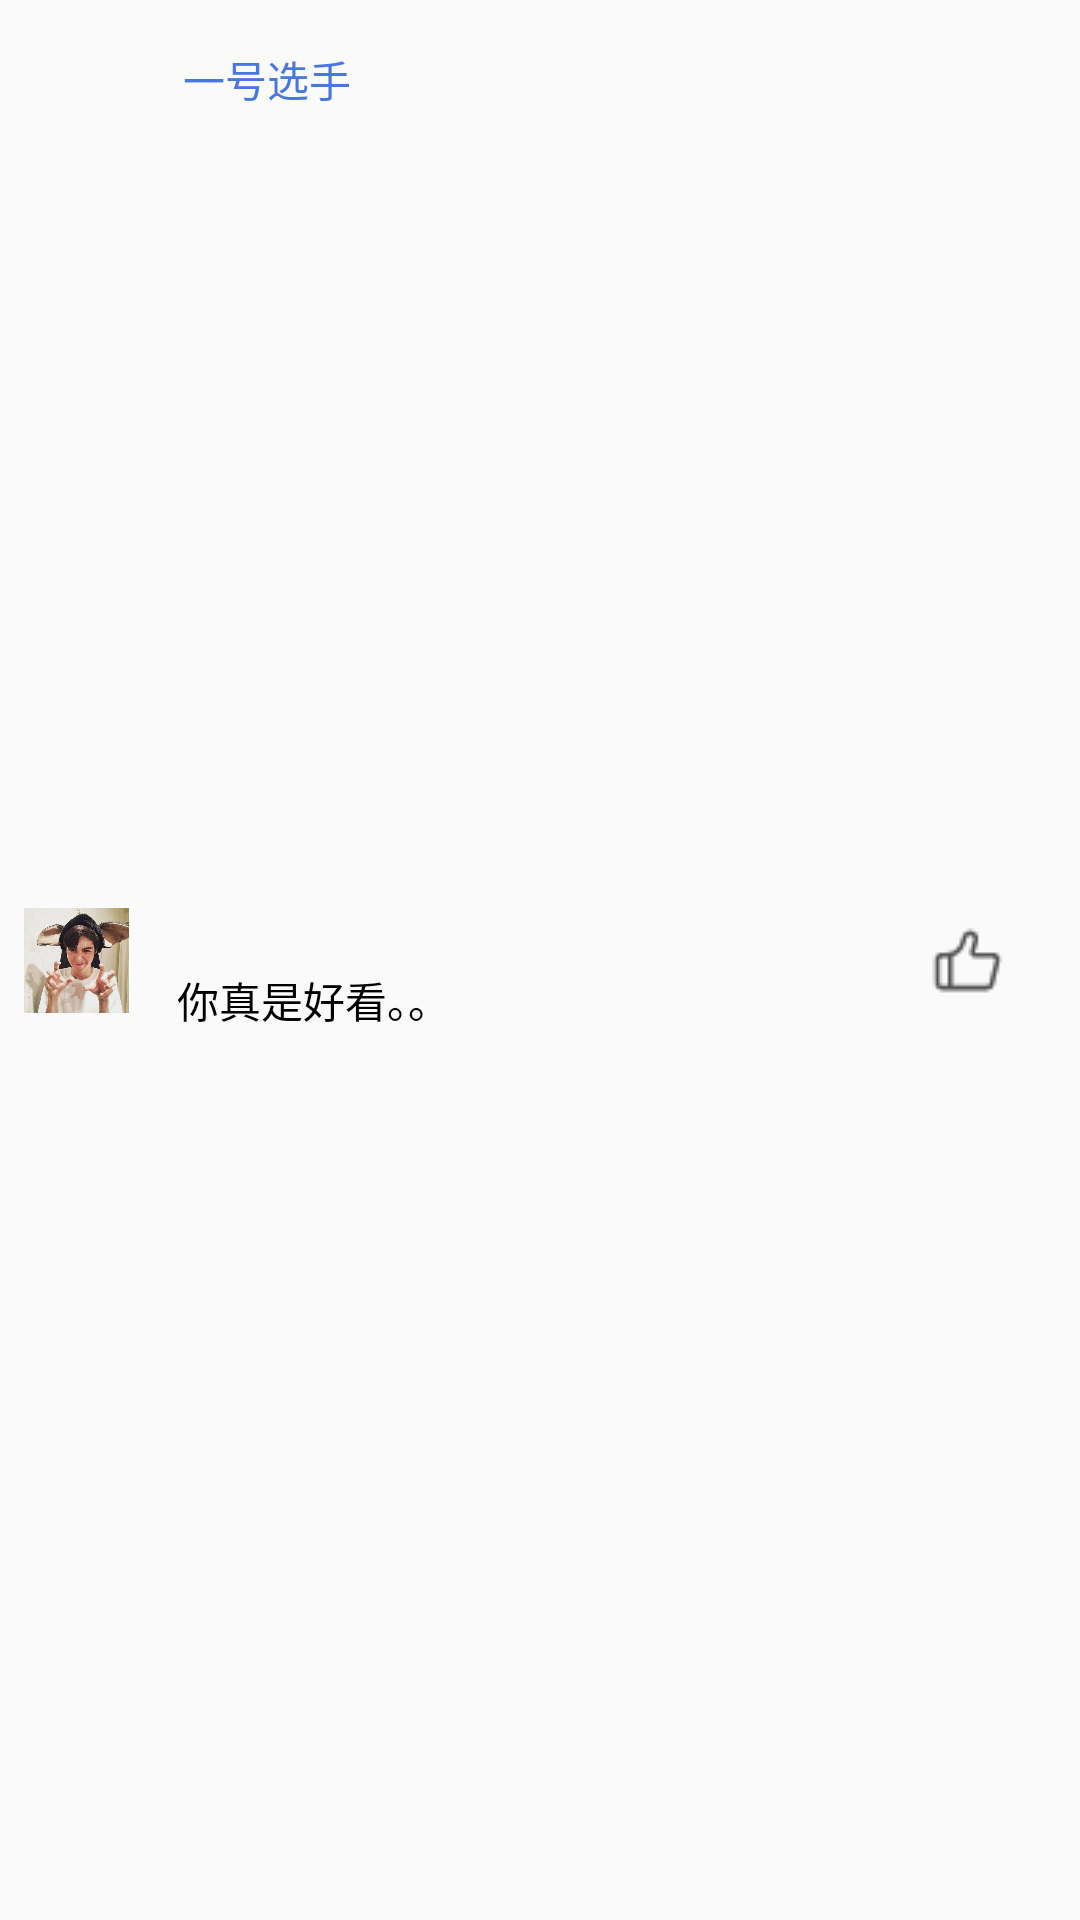

Locate icon controls on the screen. Image size 1080x1920, boxes as (x1, y1, x2, y2).
portrait pic: (24, 908, 129, 1013)
